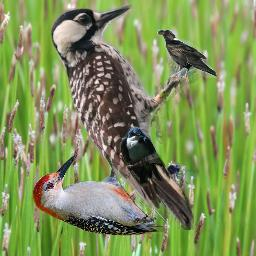Crow: (157, 29, 217, 83)
Swallow: (119, 126, 172, 190)
Woodpecker: (50, 4, 203, 230), (33, 155, 167, 236)
